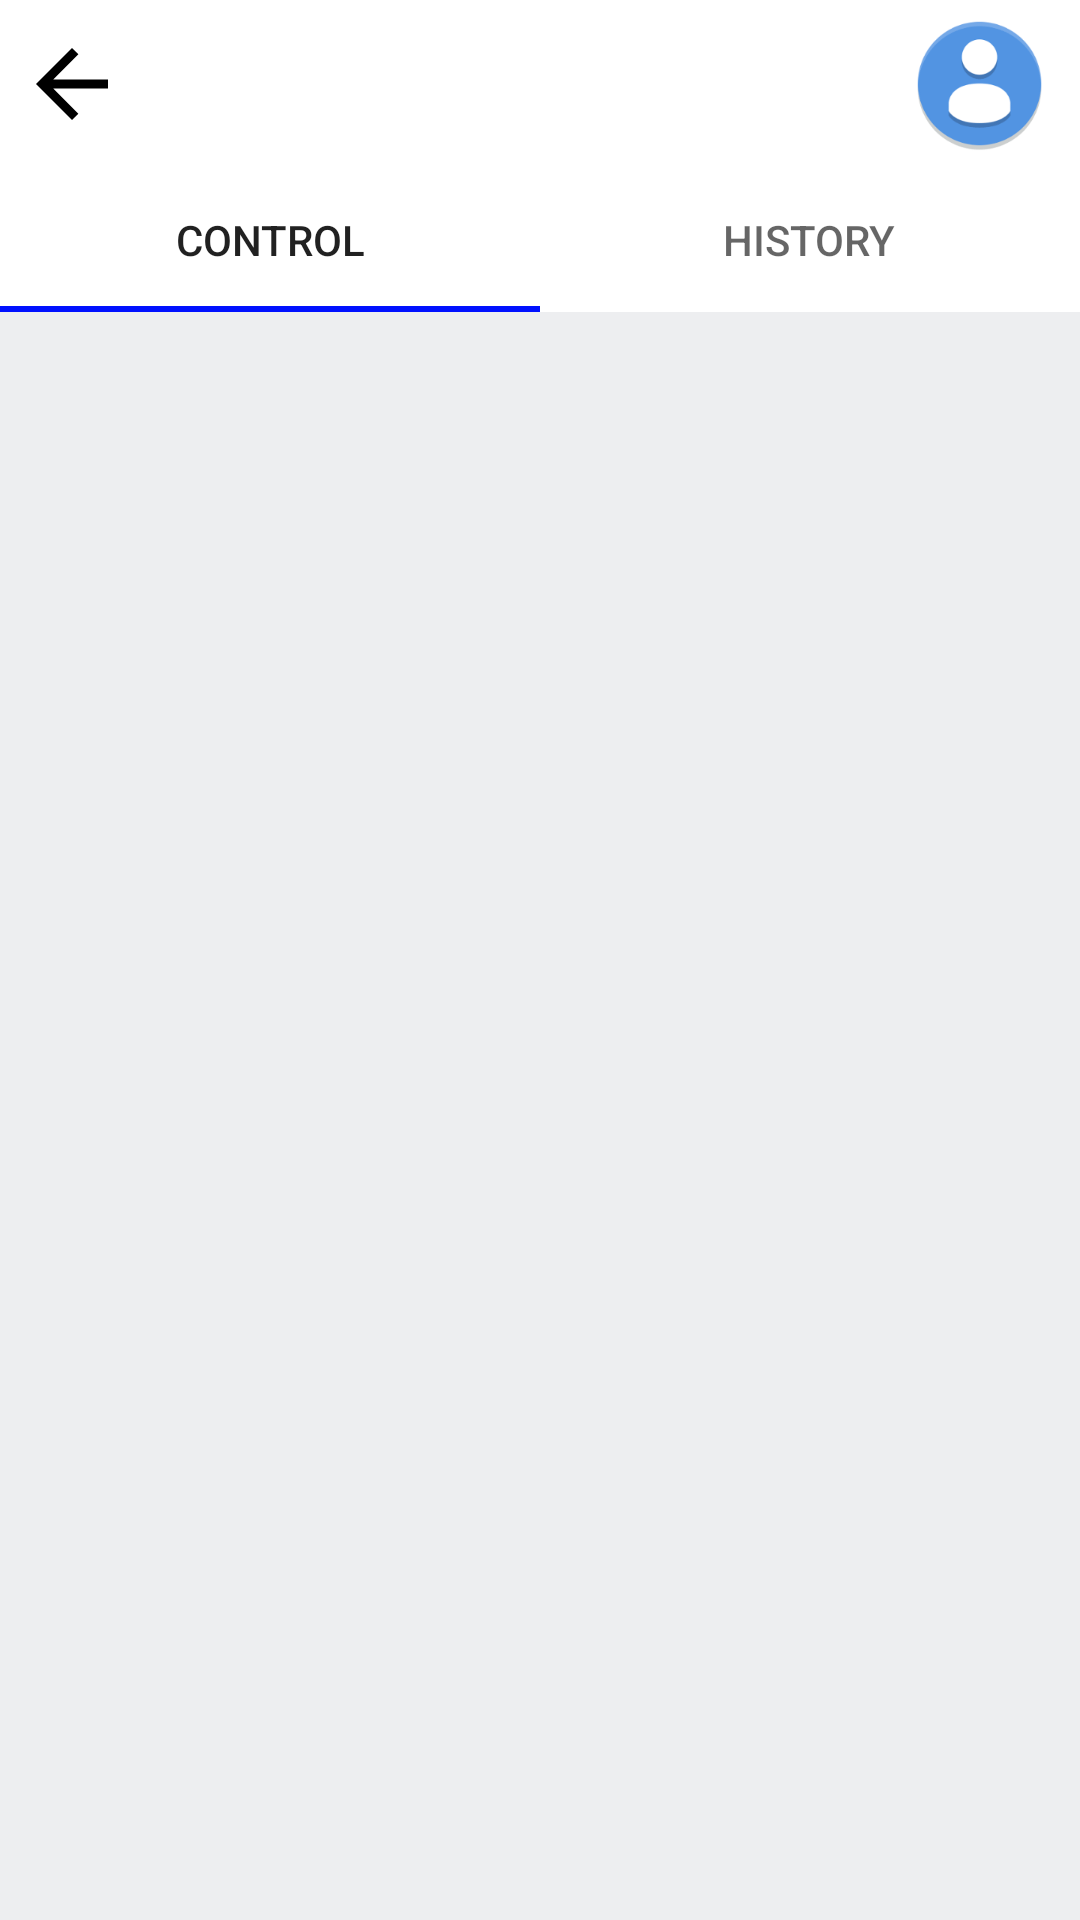

Named icons in this screenshot (1080 × 1920) and their centers, point (x, y):
back: point (72, 84)
profile: point (979, 85)
